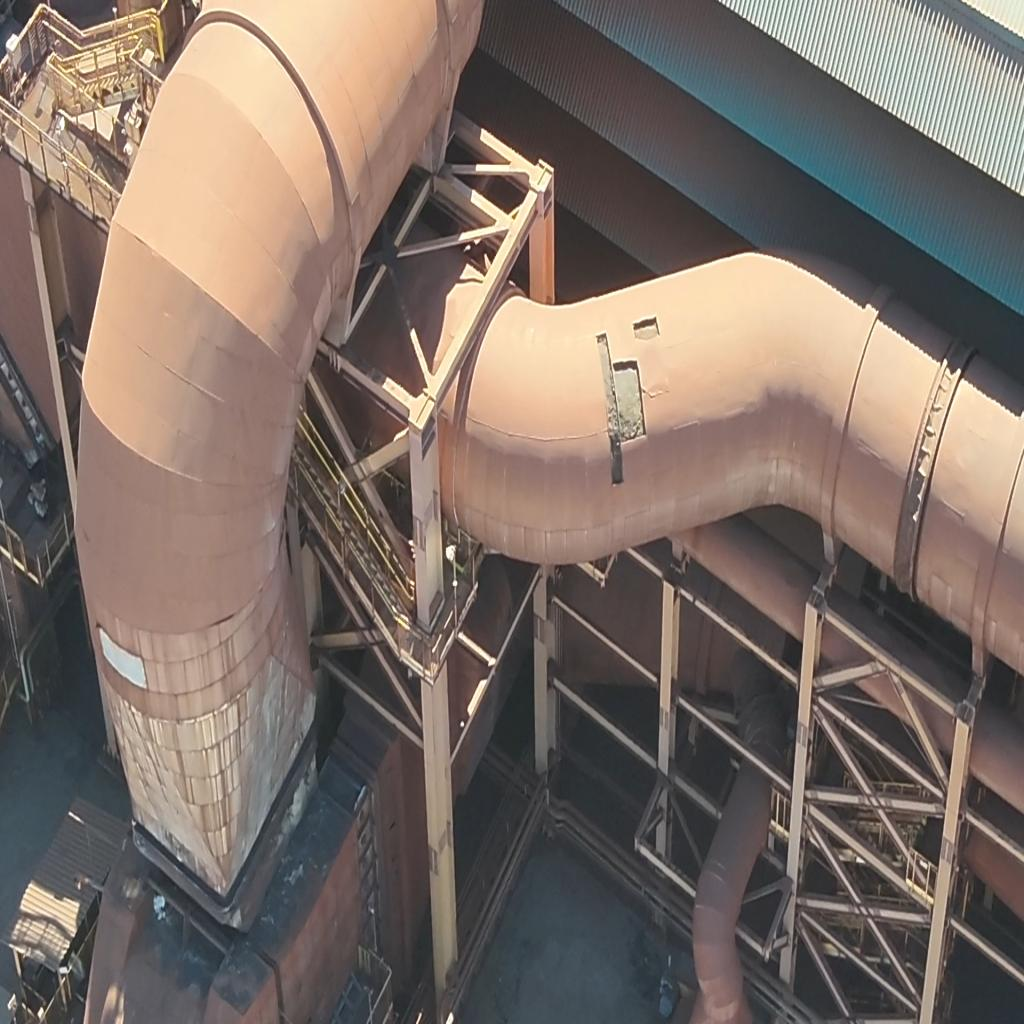Failures: (596, 332, 647, 489), (635, 316, 659, 342)
